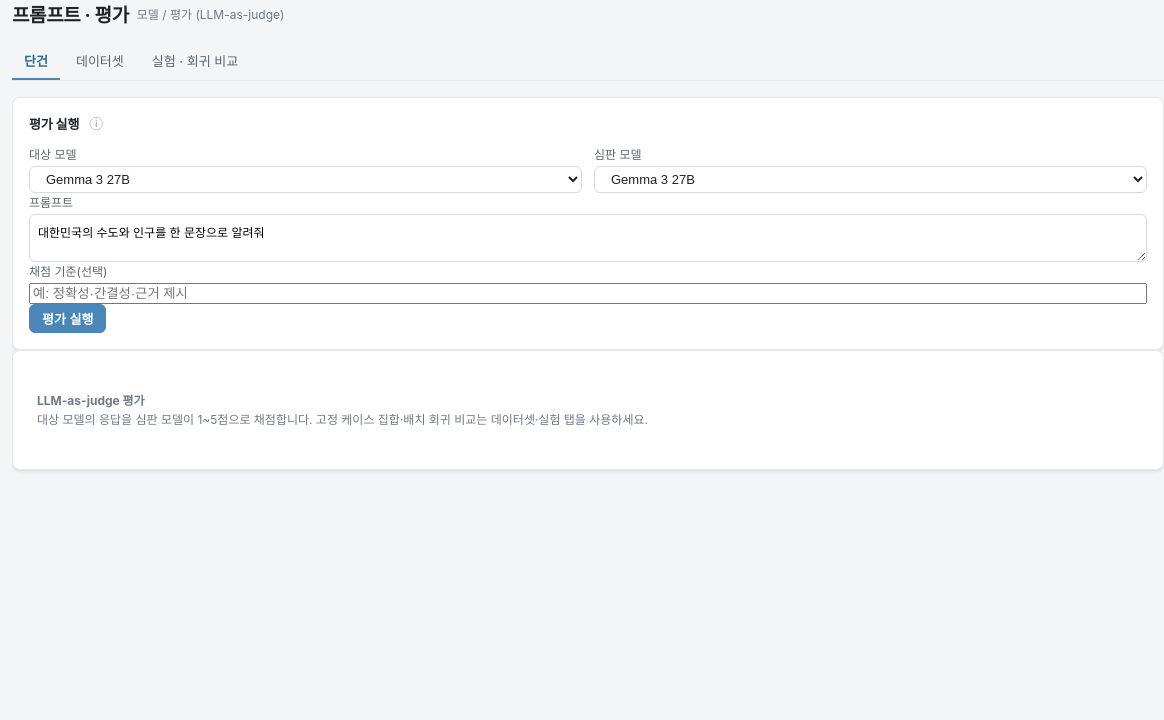
Test: Eval suite — IMP-39 › 실험 탭 — run×case 매트릭스 + run-vs-run delta(개선▲/회귀▼) 표시
Step 1. Click the tab "실험 · 회귀 비교" → (195, 62), box left=140, top=43, right=250, bottom=80
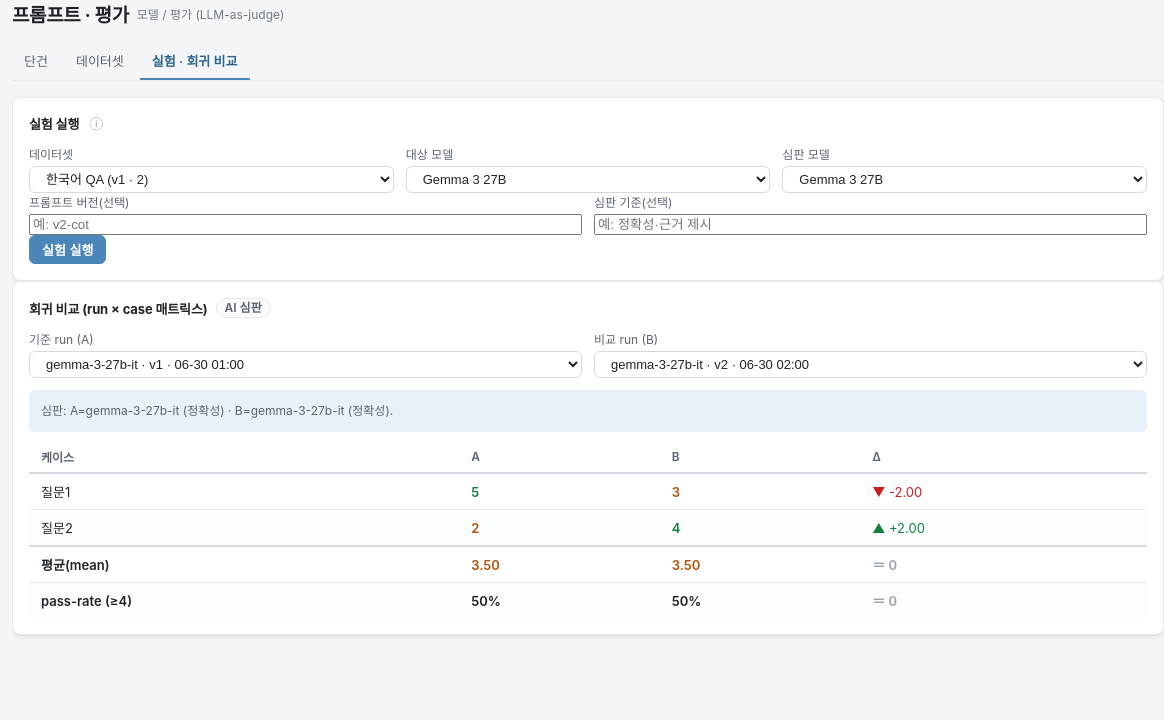
Now the heading "회귀 비교 (run × case 매트릭스)" is shown, box left=29, top=298, right=208, bottom=318
Now the text named "회귀 -2.00" shows "▼", box left=872, top=484, right=889, bottom=500
Now the text named "개선 2.00" shows "▲", box left=872, top=520, right=897, bottom=536
